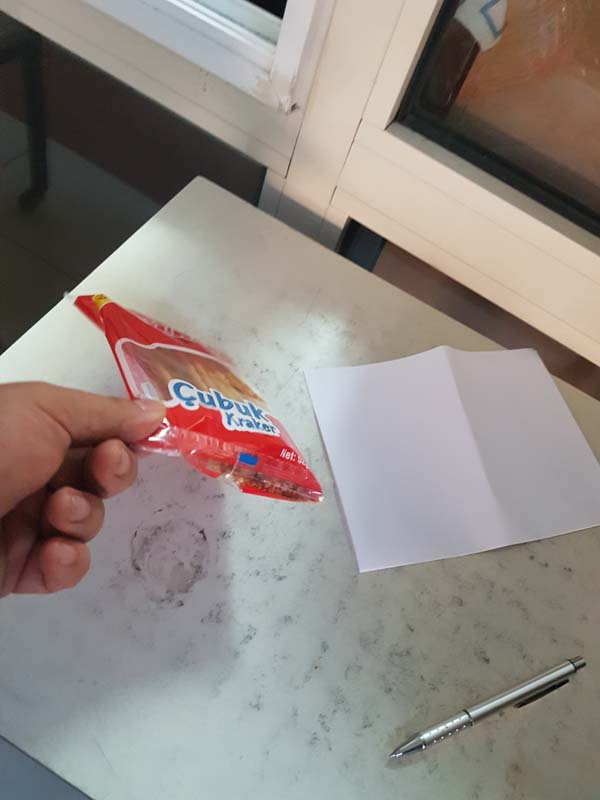eticubuk: (116, 280, 326, 496)
